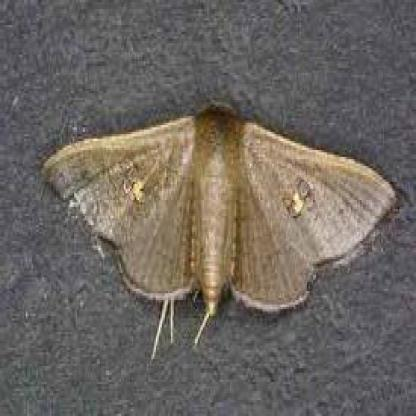Leaf Webber: (36, 97, 399, 324)
